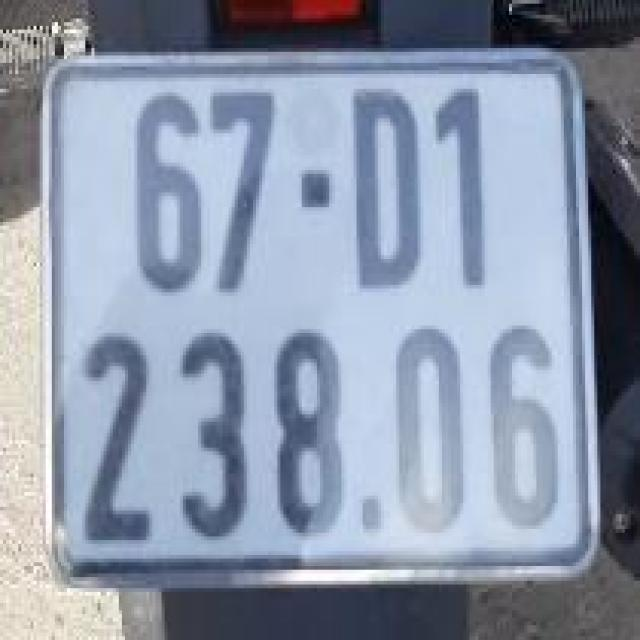0: (392, 316, 477, 535)
1: (436, 65, 494, 294)
2: (72, 326, 154, 551)
3: (169, 320, 252, 542)
6: (474, 299, 571, 536), (123, 81, 206, 292)
7: (206, 78, 282, 292)
8: (256, 314, 350, 555)
D: (337, 72, 437, 302)
